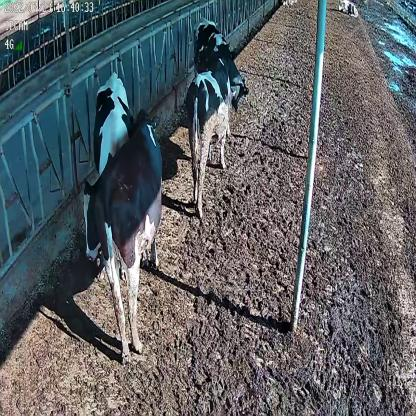cow: (96, 103, 166, 365), (82, 68, 133, 282), (184, 41, 231, 216), (192, 15, 248, 109), (336, 0, 359, 22)
